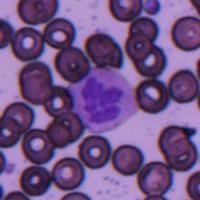N: (70, 68, 138, 133)
